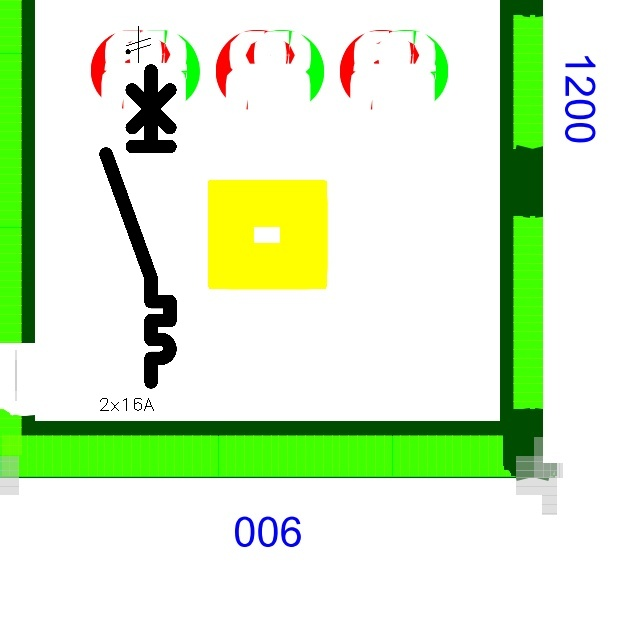interruptor_termomagnetico: (98, 63, 178, 390)
